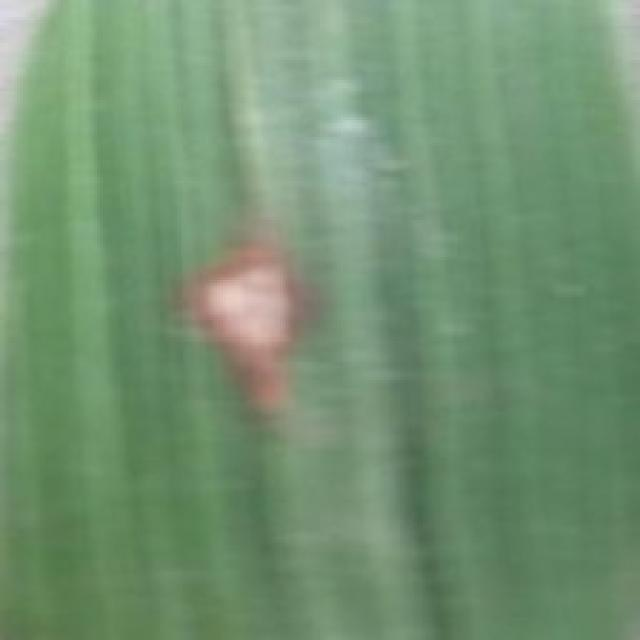Unhealthy: (171, 221, 330, 445)
